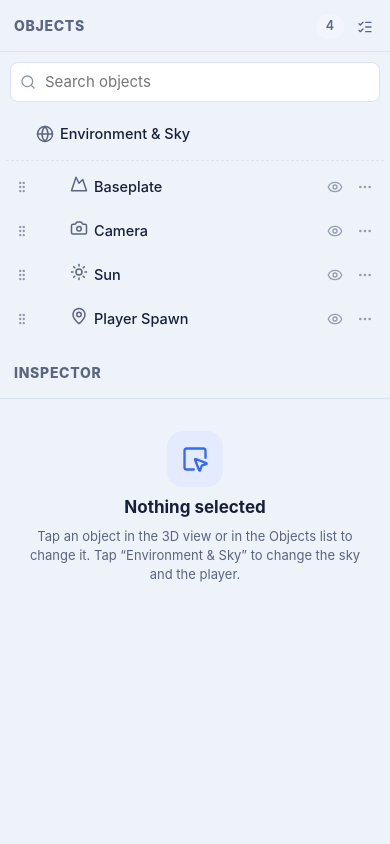
Test: Hierarchy and Inspector › filters objects with search
Step 1. Type "spawn" into the search field labelled "Search objects" → (195,82), box 10,62 -> 380,102
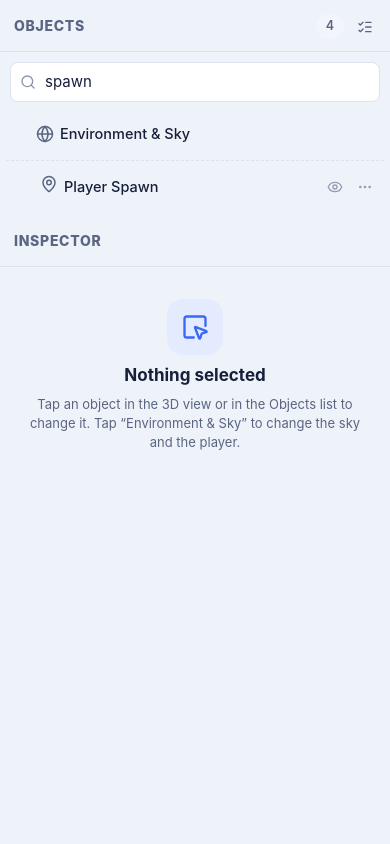
Expected: the list item with test id "tree-row-Player Spawn" is shown, 6,165 -> 384,209
Now the list item with test id "tree-row-Camera" is gone
